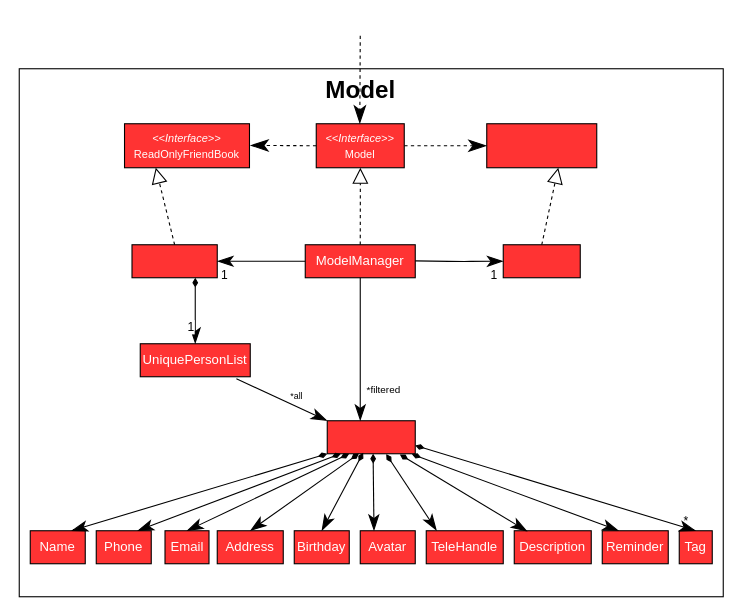
Image size: 743x616. Some labels were removed from this diagram. Here are the shapes that lost their labels. From the top down, the centre of each, then its label:
At pixel 541 145: "<<Interface>> ReadOnlyUserPrefs".
At pixel 174 261: "FriendBook".
At pixel 541 261: "UserPrefs".
At pixel 370 437: "Person".
